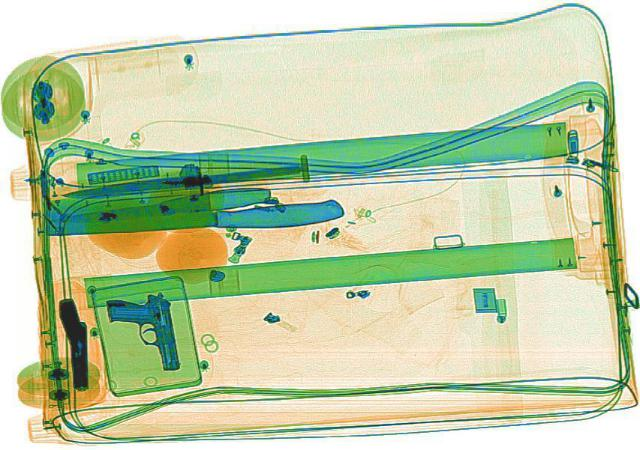Gun: (102, 290, 184, 373), (54, 295, 98, 390)
Knife: (38, 178, 346, 240), (46, 183, 274, 227), (56, 161, 302, 199)
